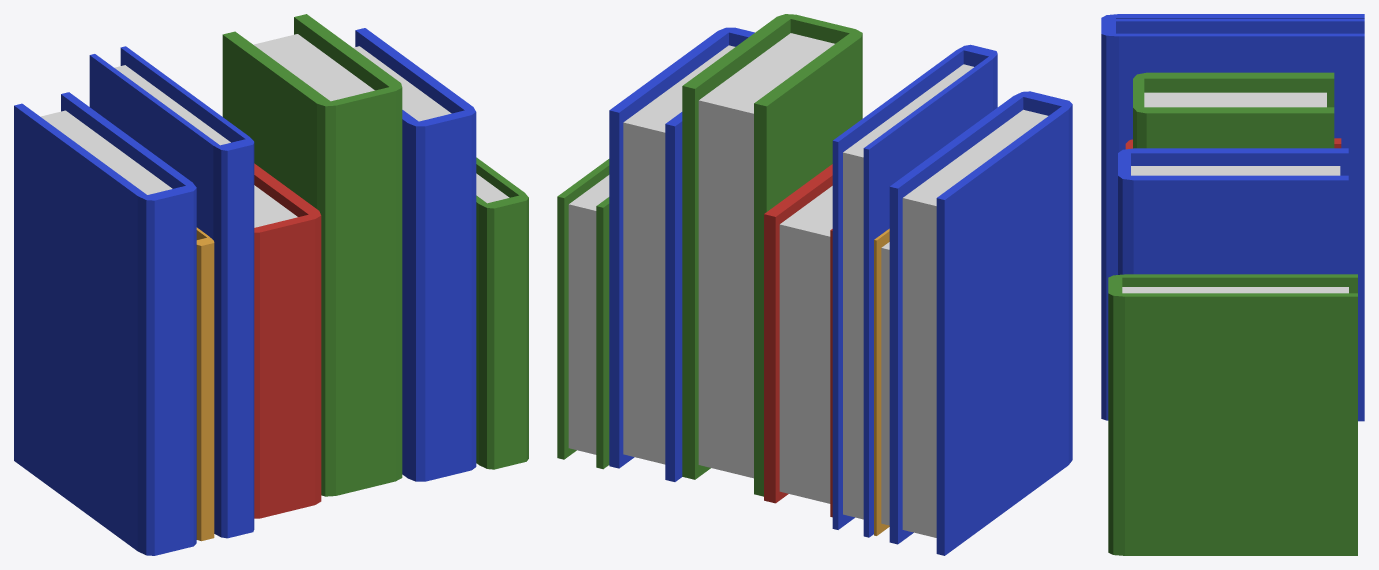
Rendered from Books_3.fbx.
3 renders of one model, left to right at view 1: azimuth 30°, elevation 25°; view 2: azimuth 150°, elevation 25°; view 3: azimuth 270°, elevation 25°, orthographic.
Visible parts, largest first — view 1: livre_2; view 2: livre_2; view 3: livre_2.
Boxes of the visible parts, x1,y1,x2,y2 form: livre_2: (14,14,528,555); livre_2: (557,14,1072,555); livre_2: (1101,14,1364,555).
Size of the model in its own units: 37.04 by 35.43 by 21.8.
